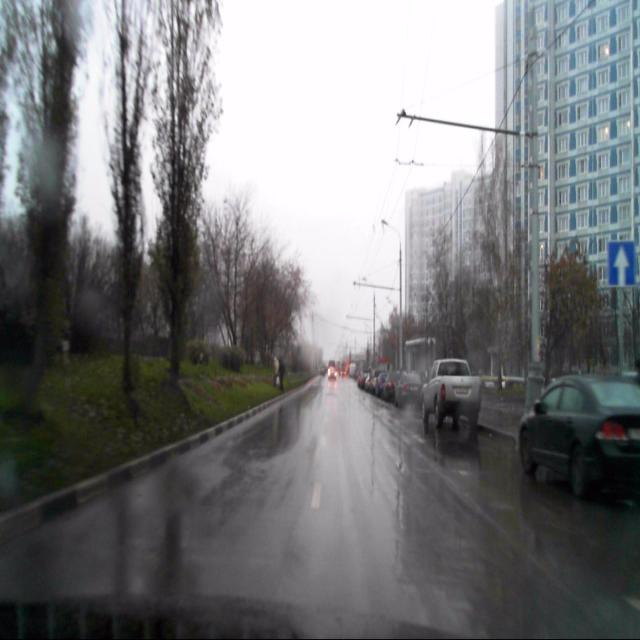road sign: (606, 241, 635, 286)
